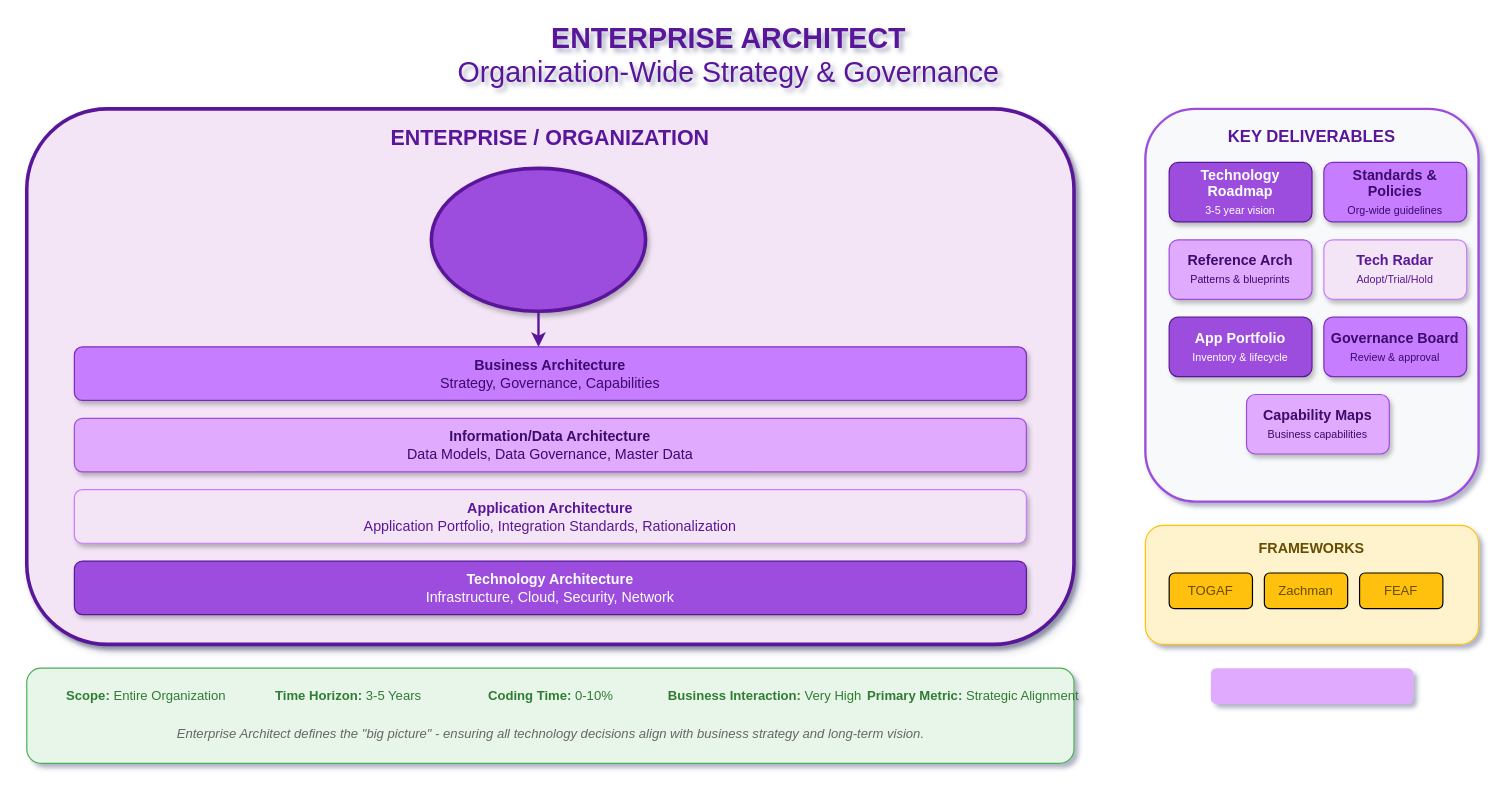
Some shapes in this 1508 by 791 pixel diagram are drawn without their labels. Each missing label, with the centre of its shape:
ENTERPRISE ARCHITECT Strategy • Standards Governance • Roadmap: (539,241)
Reports to: CTO / CIO: (1311,685)
